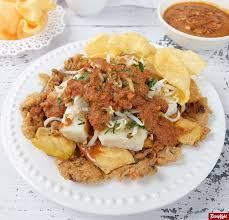Tahu telor: (22, 57, 184, 184)
